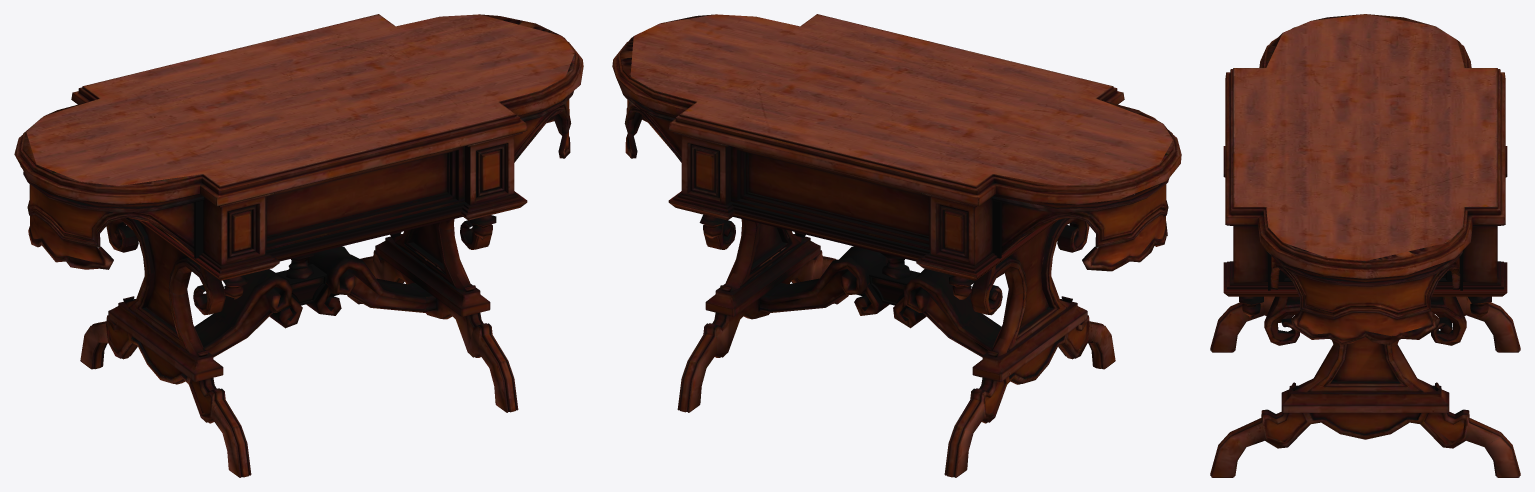
Rendered from mesa.glb.
3 views of the same model, side by side, from view 1: azimuth 30°, elevation 25°; view 2: azimuth 150°, elevation 25°; view 3: azimuth 270°, elevation 25° (orthographic). The views are drawn at different scales.
Visible parts, largest first — view 1: Circle.019_Baked; view 2: Circle.019_Baked; view 3: Circle.019_Baked.
Part boxes in pixels (x1=…): Circle.019_Baked: x1=14, y1=14, x2=583, y2=477; Circle.019_Baked: x1=612, y1=14, x2=1181, y2=477; Circle.019_Baked: x1=1210, y1=14, x2=1520, y2=477.
Size of the model in its own units: 1.47 by 0.7436 by 0.7605.
1 material, 1 textured.
